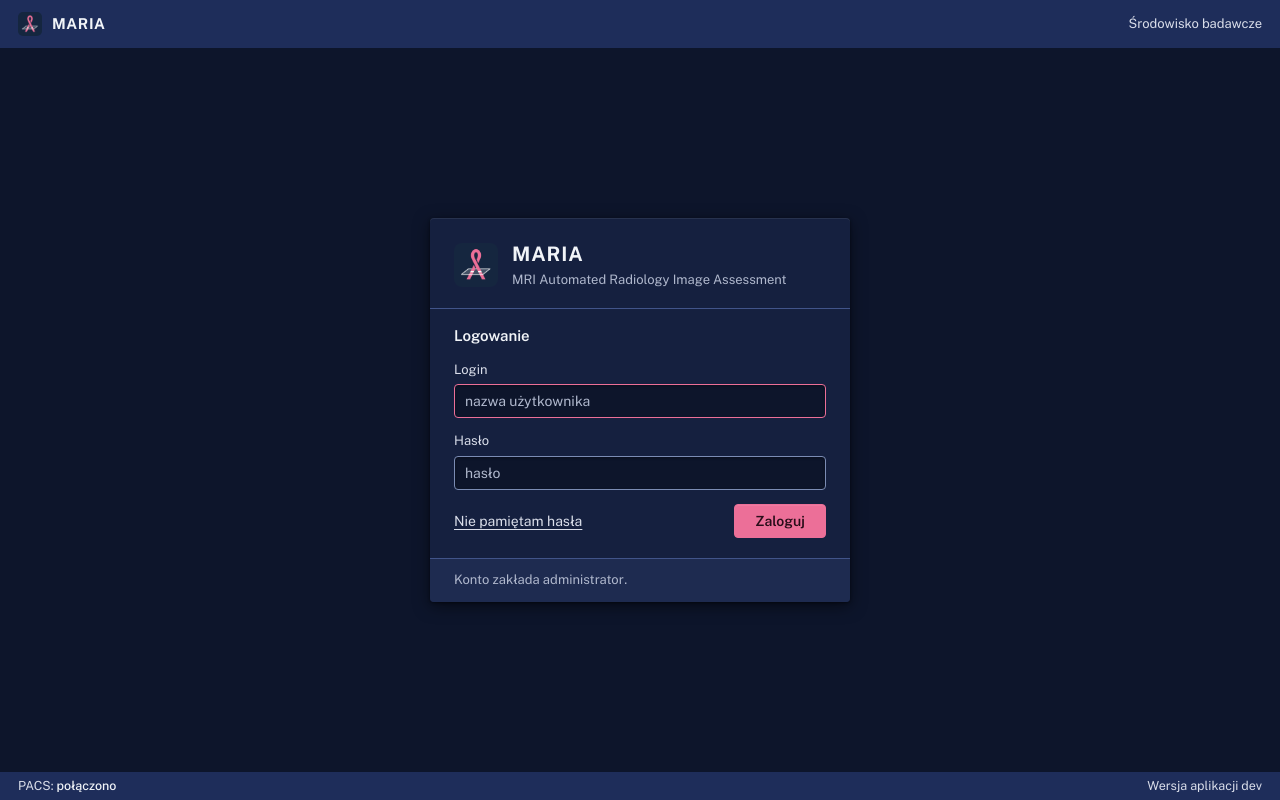
Test: LoginPage › asks for both fields before sending anything
Type "demo.radiologist" into the field labelled "Login" at (640, 401), box [454, 384, 826, 418]
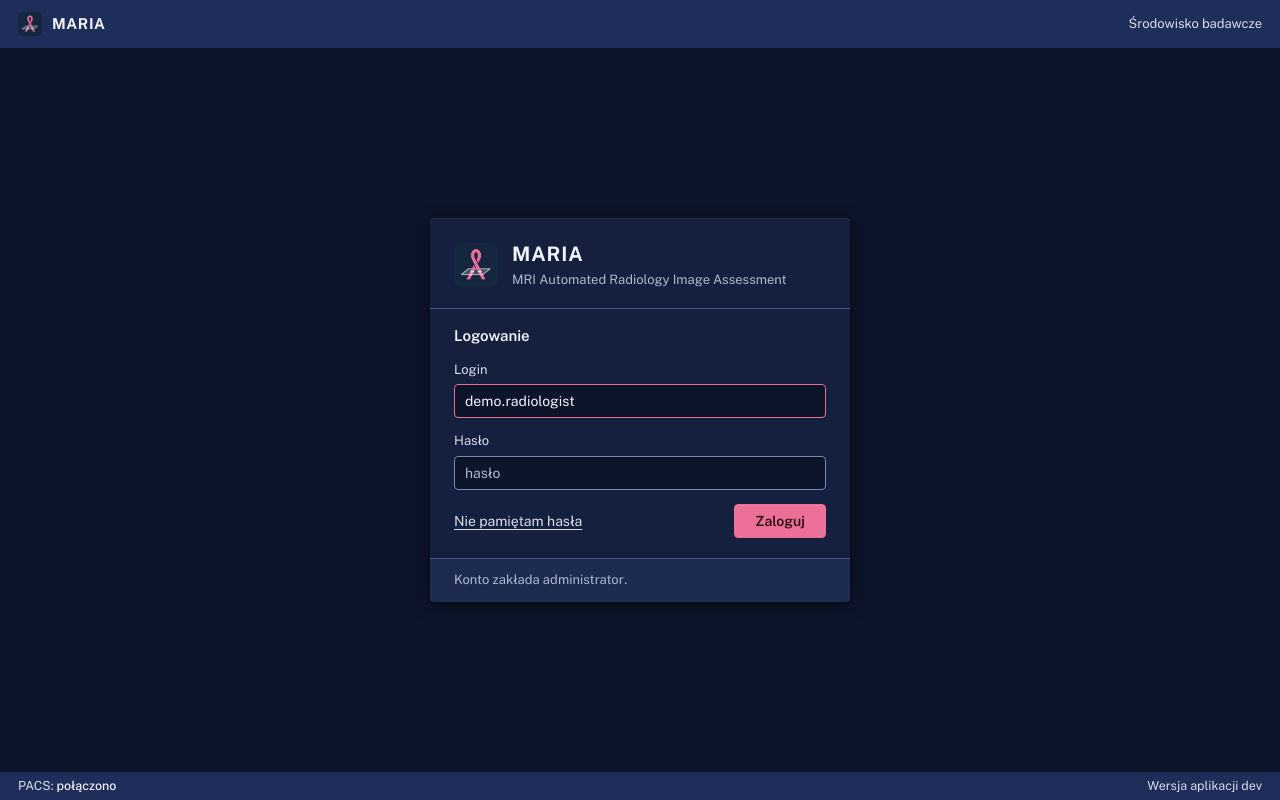
Click the button "Zaloguj" at (780, 521), box [734, 504, 826, 538]
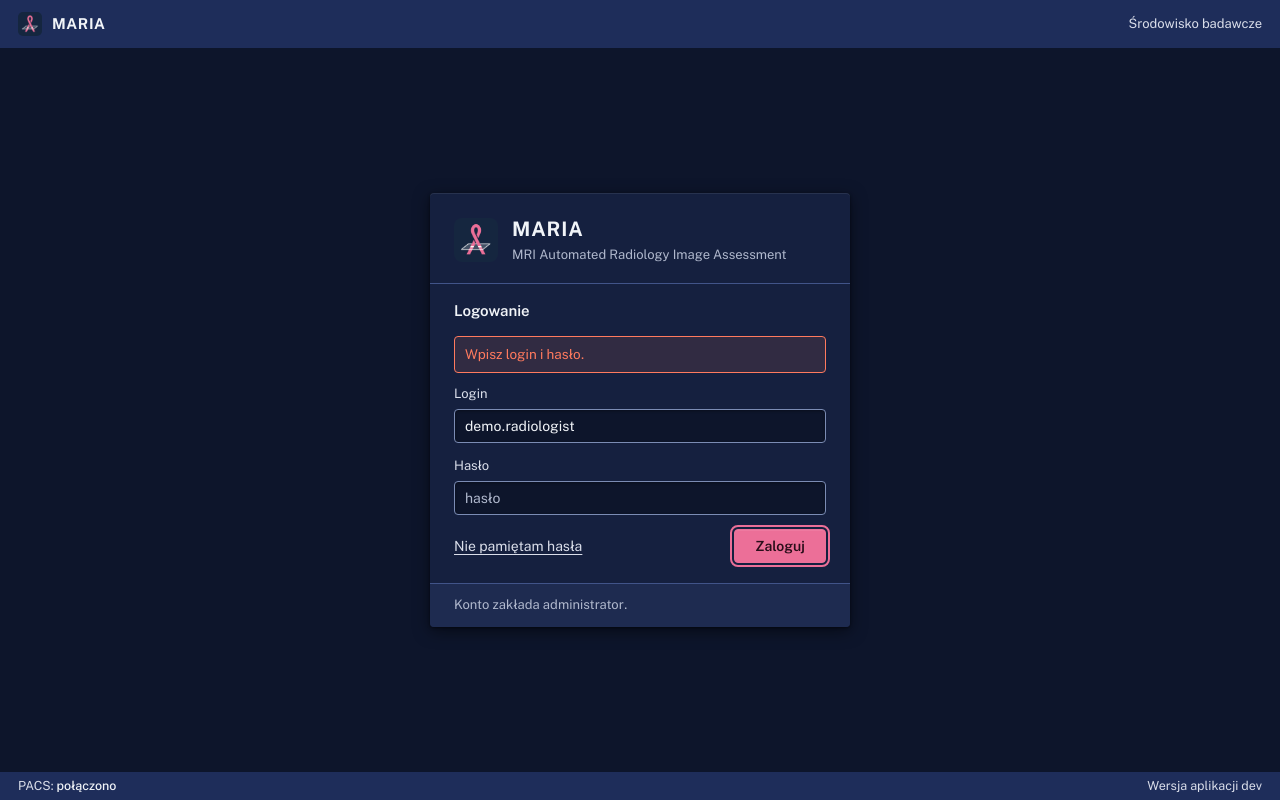
Now the message reads "Wpisz login i hasło.", box [465, 346, 585, 362]
